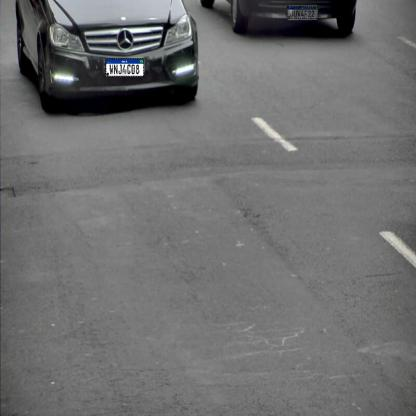PlacaM: (106, 58, 144, 77), (287, 6, 318, 19)
